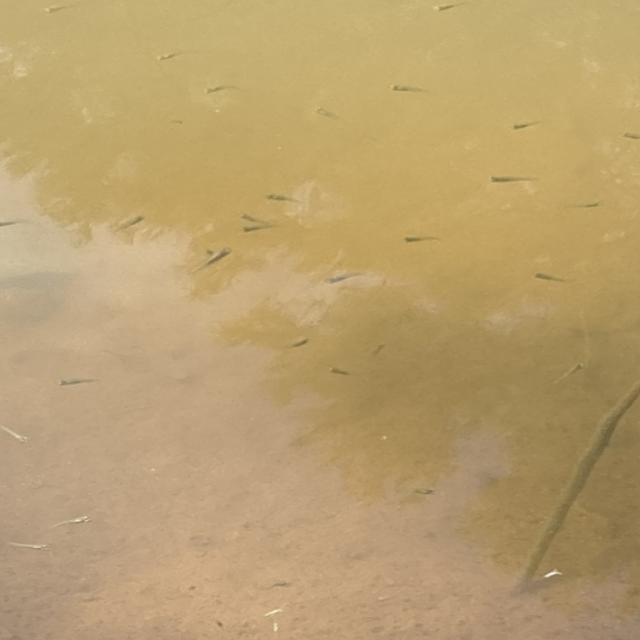Sivrisinek Baligi: (183, 241, 231, 286), (403, 470, 442, 512), (2, 533, 55, 559), (52, 506, 94, 538), (556, 194, 606, 220), (1, 408, 30, 452), (52, 370, 101, 396), (108, 212, 160, 235), (429, 0, 492, 16), (505, 114, 552, 135), (38, 0, 92, 18), (401, 230, 446, 249), (530, 270, 576, 288), (385, 81, 433, 98), (488, 172, 540, 186), (150, 46, 192, 63), (553, 363, 590, 382), (262, 190, 300, 208), (364, 339, 398, 356), (280, 333, 310, 352), (311, 105, 346, 121), (326, 271, 366, 284), (324, 366, 356, 380), (203, 84, 240, 96)
